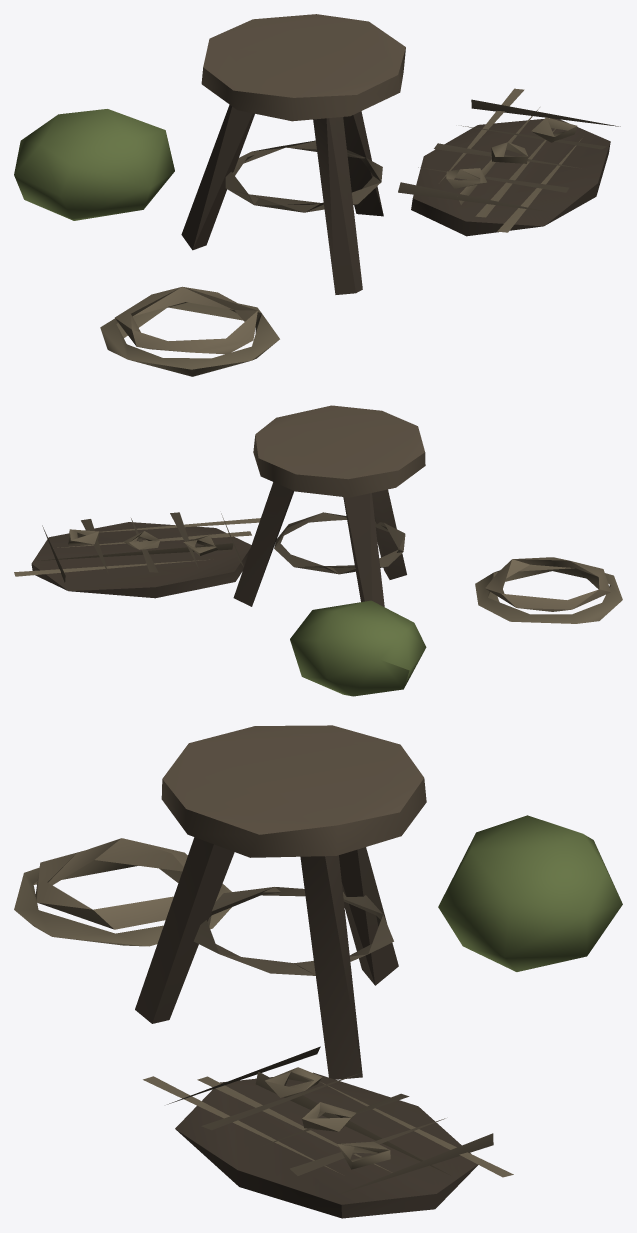
Rendered from mender_stool_b_lod2.glb.
3 views of the same model, one above another, from view 1: azimuth 30°, elevation 25°; view 2: azimuth 150°, elevation 25°; view 3: azimuth 270°, elevation 25° (orthographic). The views are drawn at different scales.
Visible parts, largest first — view 1: Surface.001; view 2: Surface.001; view 3: Surface.001.
Boxes of the visible parts, x1,y1,x2,y2 form: Surface.001: (14, 14, 620, 376); Surface.001: (14, 405, 622, 696); Surface.001: (14, 725, 622, 1218).
Size of the model in its own units: 2.56 by 0.8197 by 1.79.
